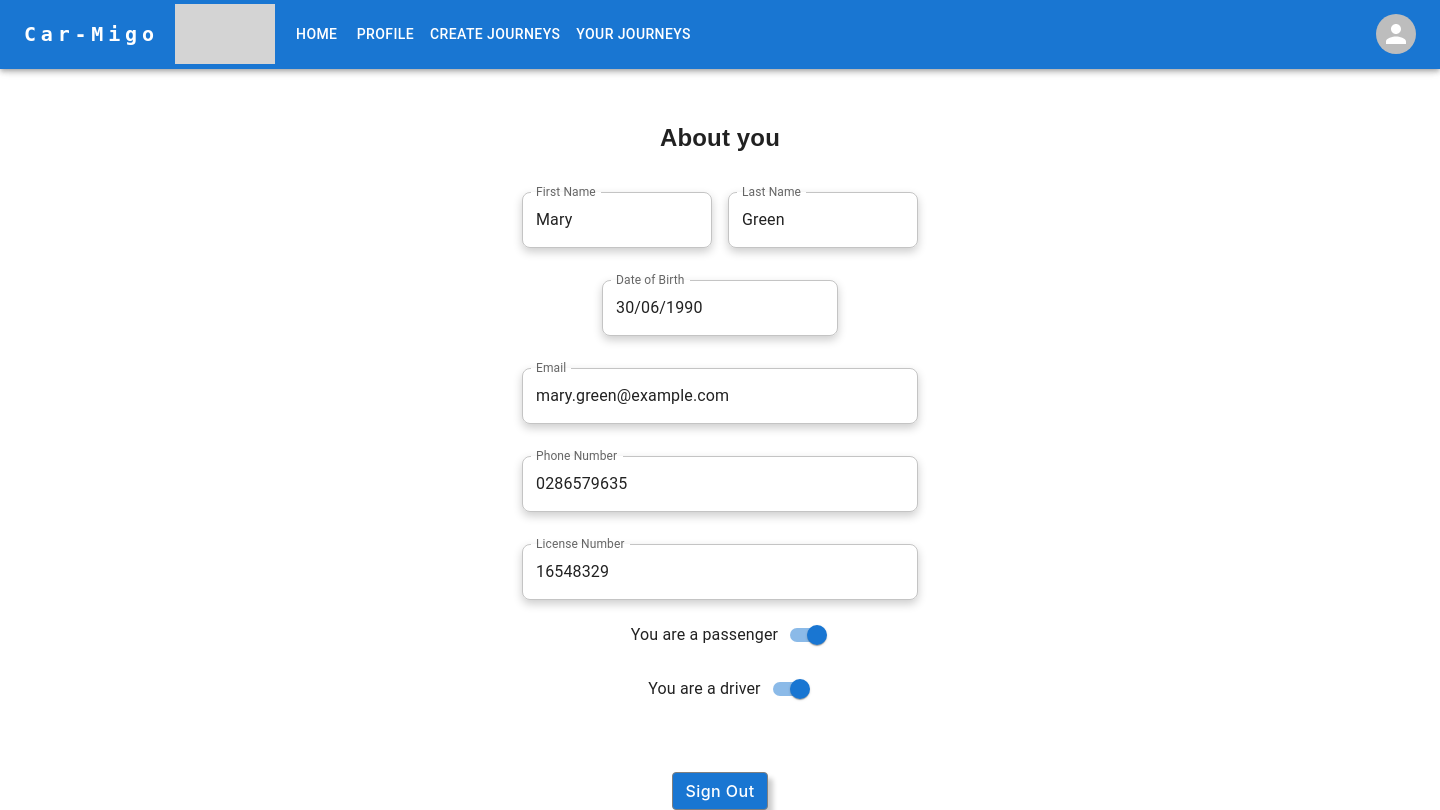
Profile Unit Tests › test toggle for the driver
Check: the field with test id "read-only-license-number-input" is shown, box [522, 544, 918, 600]
Hover over the checkbox labelled "You are a driver" at (729, 689), box [648, 679, 810, 699]
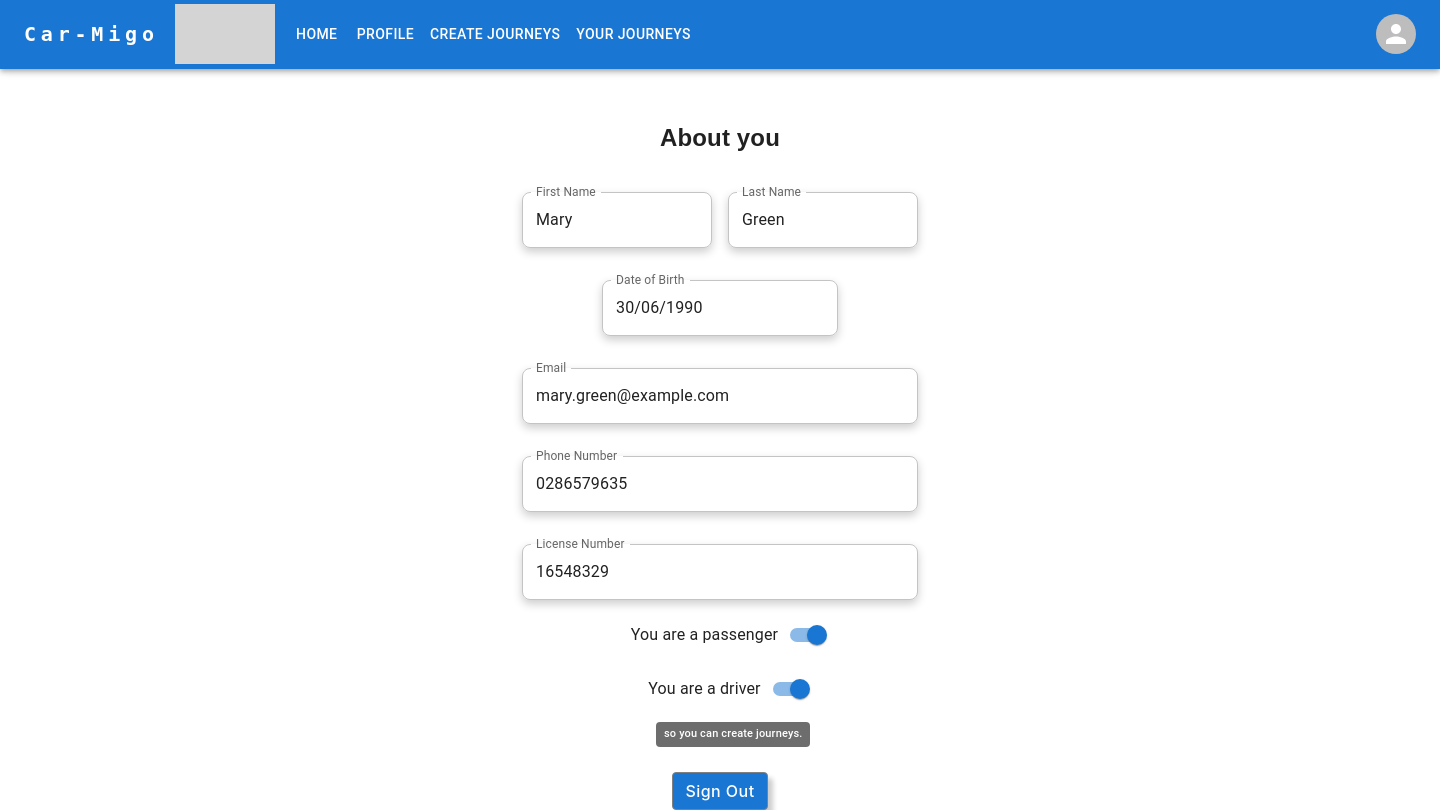
Click the checkbox with test id "driver-switch-with-tooltip-switch" at (729, 689), box [648, 679, 810, 699]
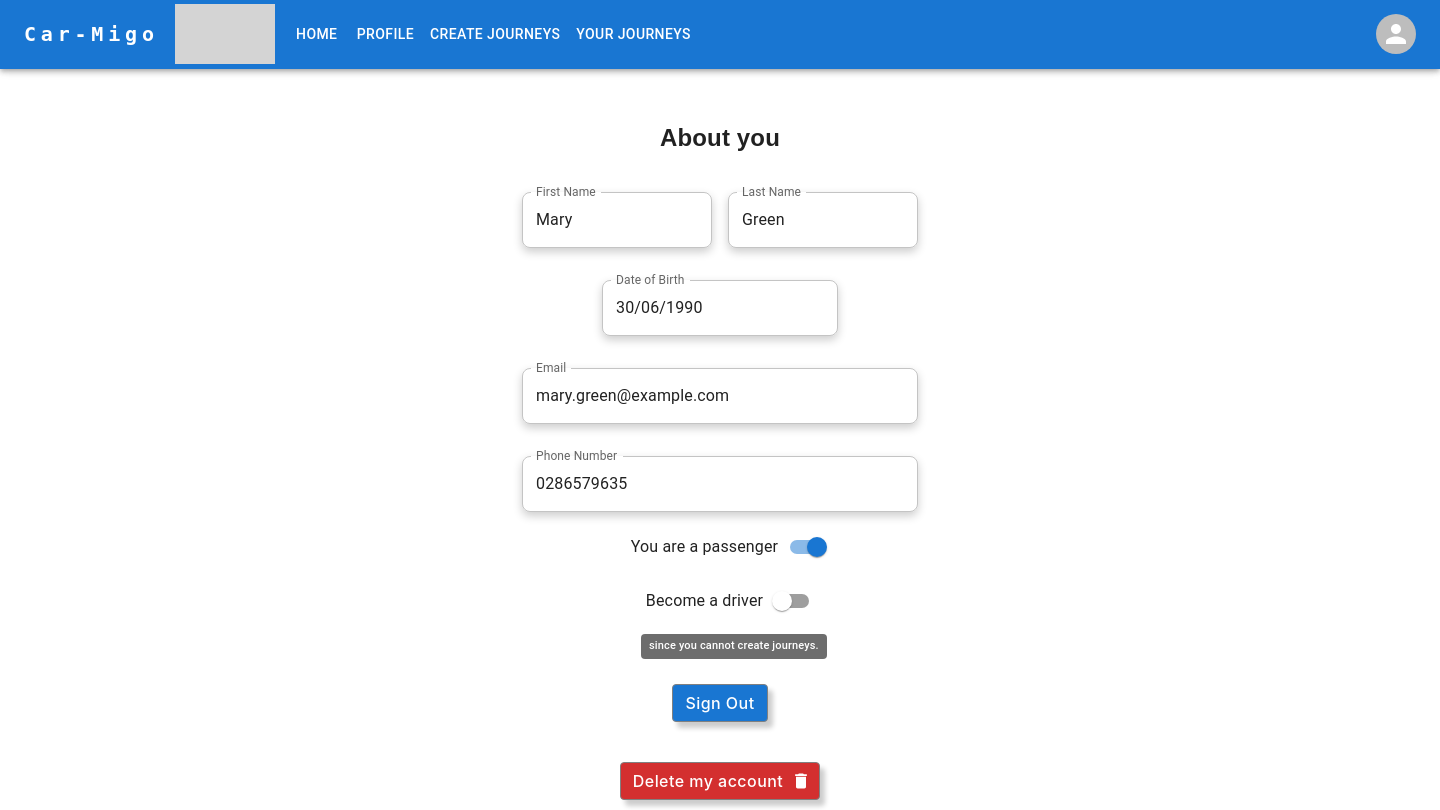
Check: the element with test id "driver-switch-with-tooltip" is shown, box [772, 591, 792, 611]
Check: the field with test id "read-only-license-number-input" is gone
Hover over the checkbox labelled "Become a driver" at (728, 601), box [646, 591, 809, 611]
Check: the checkbox named "since you cannot create journeys." is shown
Click the checkbox with test id "driver-switch-with-tooltip-switch" at (728, 601), box [646, 591, 809, 611]
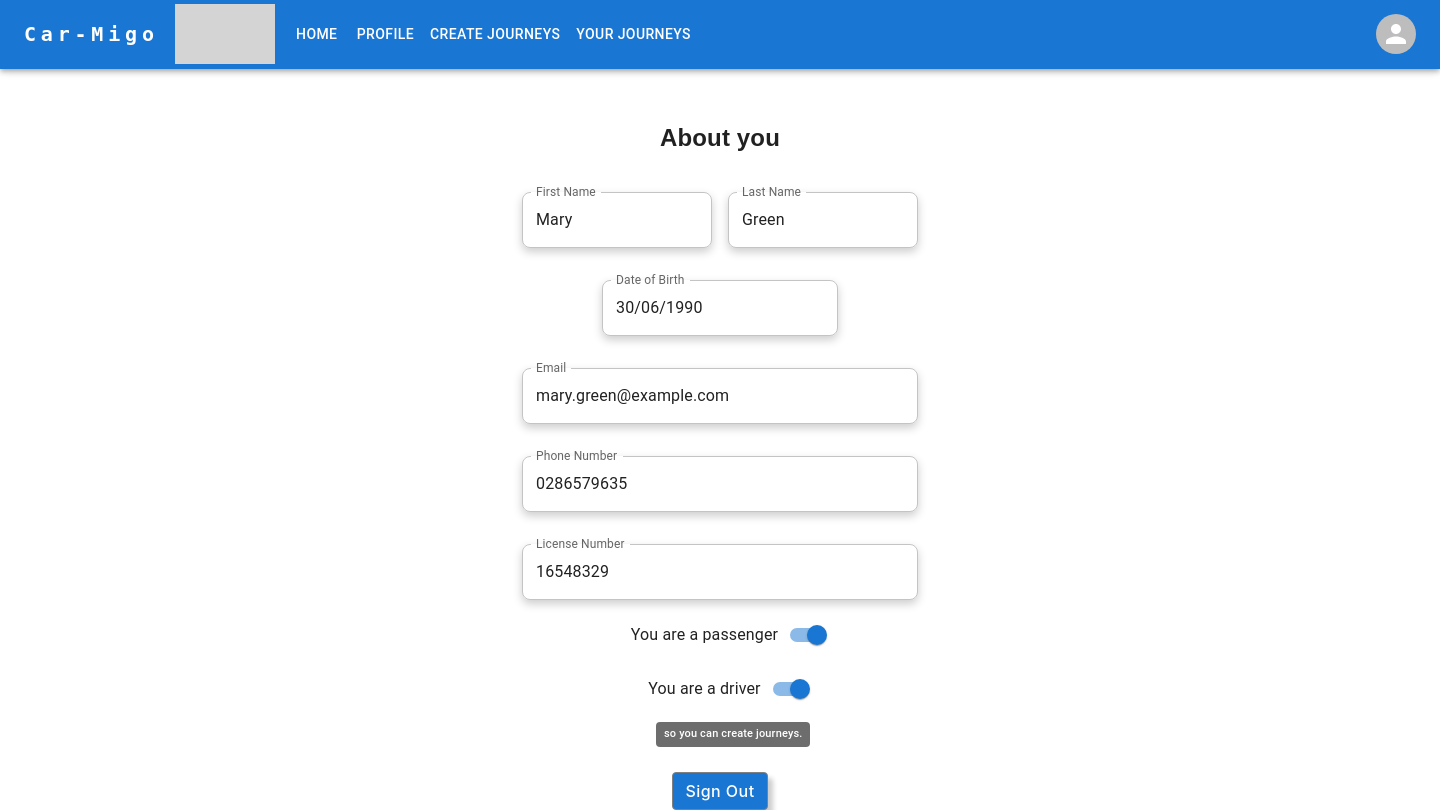
Check: the checkbox labelled "You are a driver" is shown, box [648, 679, 810, 699]
Check: the field with test id "read-only-license-number-input" is shown, box [522, 544, 918, 600]
